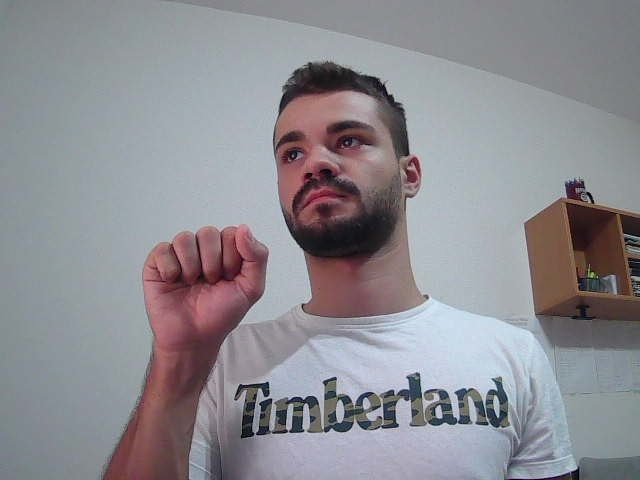a: (122, 223, 278, 448)
